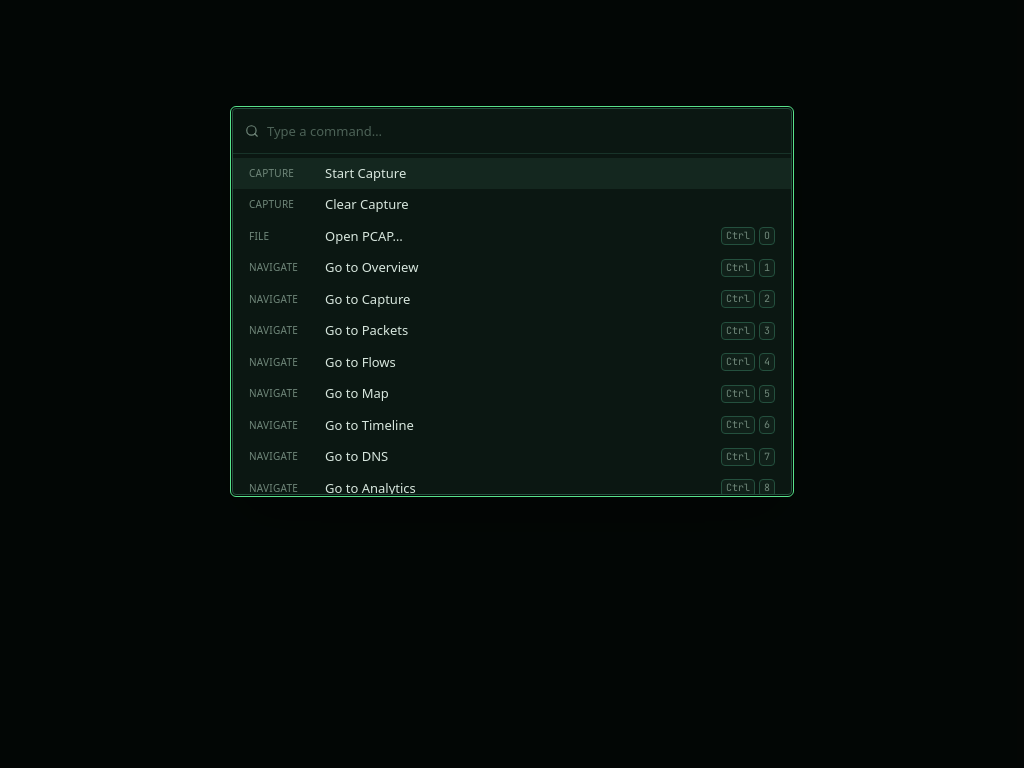
CommandPalette › shows an empty state for nonsense queries
Type "zzzzqqq" into the dropdown at (523, 130), box x1=267 y1=108 x2=779 y2=152
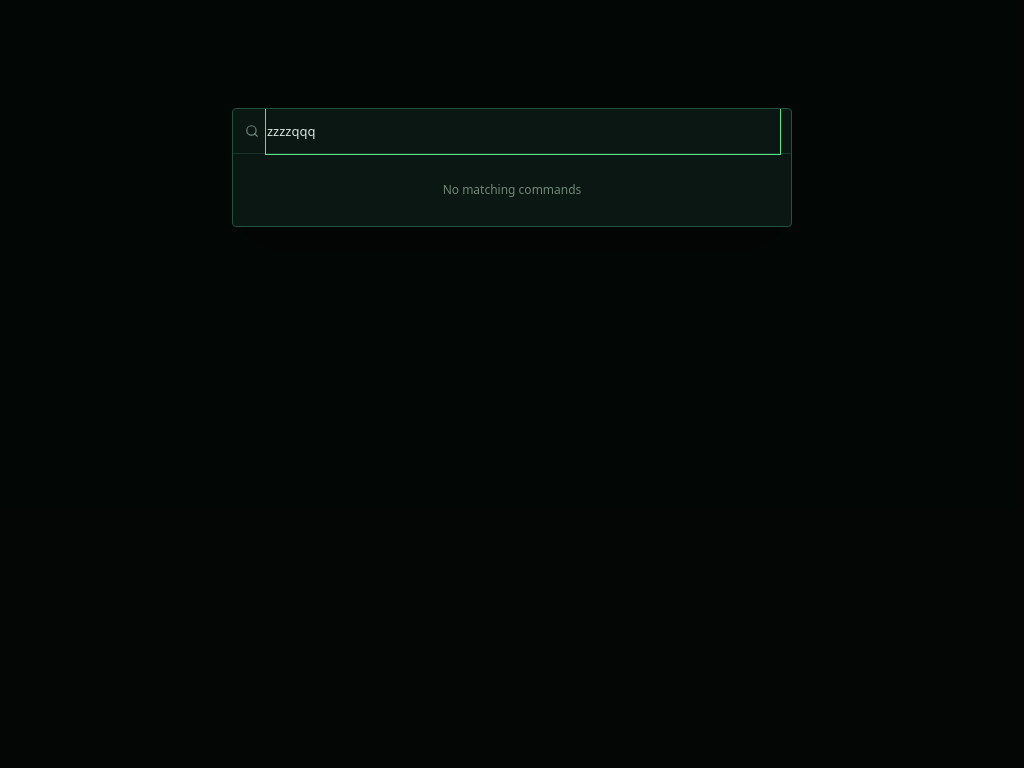
Check: the list item "No matching commands" is shown, box x1=443 y1=180 x2=581 y2=198
